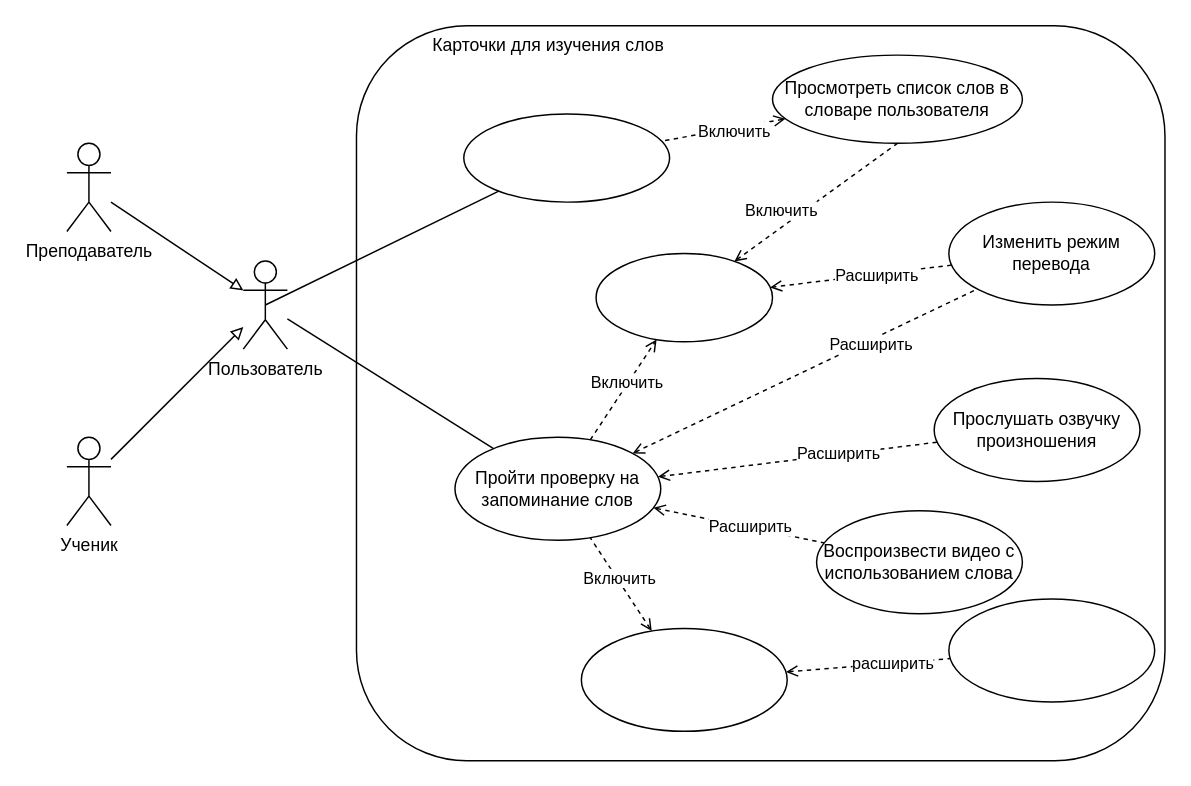
The diagram is 1191 pixels wide and 786 high, and some of its shapes have lost their labels. The centre of each missing label's shape, as x and y in pixels:
"Добавить карточку для изучения из словаря" goes at (x=566, y=157).
"Посмотреть прогресс запоминания слов" goes at (x=683, y=679).
"Просмотреть перевод" goes at (x=683, y=297).
"Удалить карточку для запоминания" goes at (x=1051, y=650).
